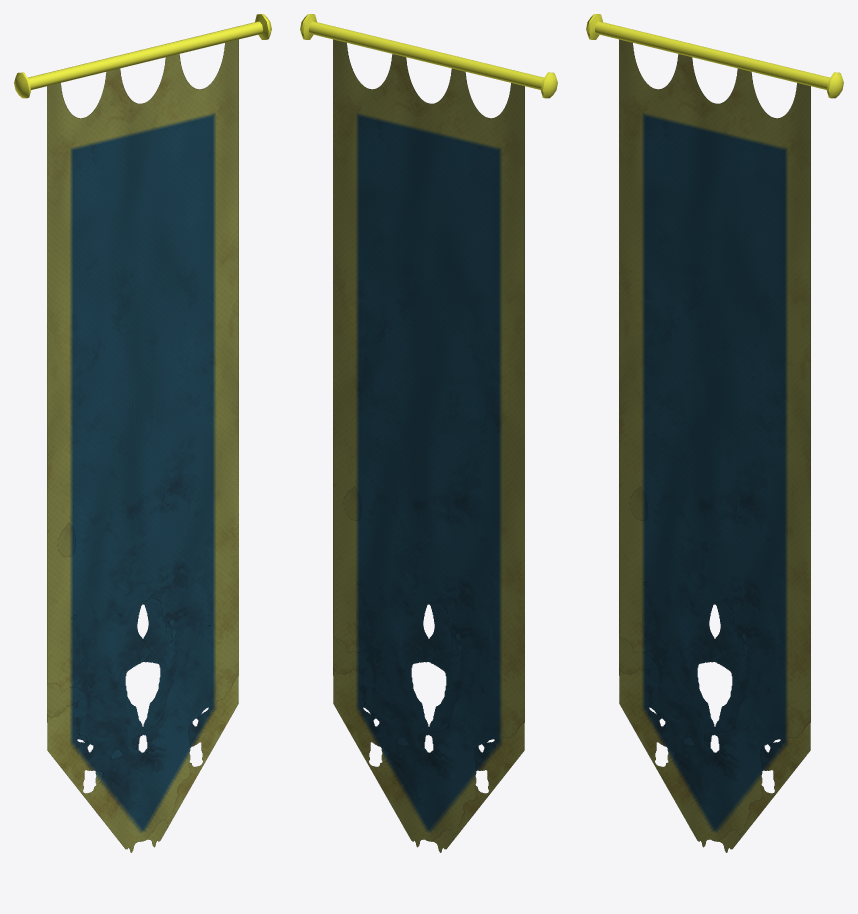
The model's file is Banner_01.FBX.
The picture shows the model from 3 angles, left to right: view 1: azimuth 30°, elevation 25°; view 2: azimuth 150°, elevation 25°; view 3: azimuth 330°, elevation 25°; orthographic projection.
Parts seen in each view (by area): view 1: Banner_01; view 2: Banner_01; view 3: Banner_01.
Boxes of the visible parts, <box> form: Banner_01: <box>14,14,271,852</box>; Banner_01: <box>300,14,557,852</box>; Banner_01: <box>586,14,843,852</box>.
Bounding box in the file's own units: 1.29 × 4.06 × 0.1249.
Materials: 2 (1 with a texture image).
